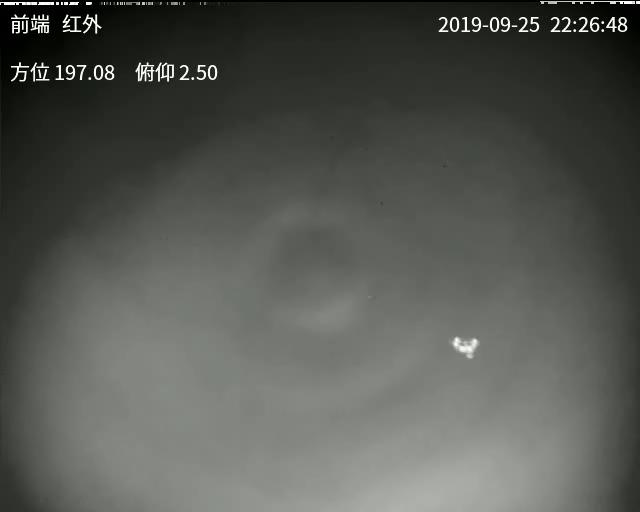uav: (450, 331, 483, 364)
